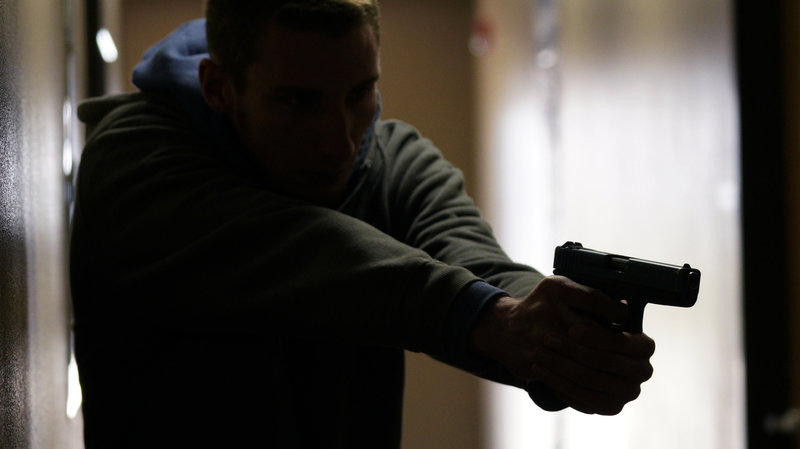Gun: (546, 226, 705, 328)
